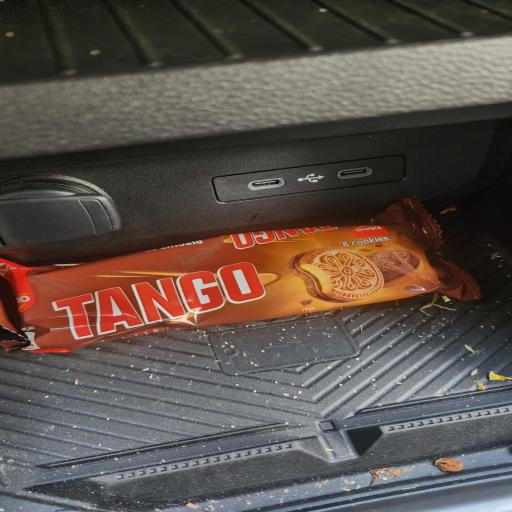tango: (11, 204, 510, 394)
